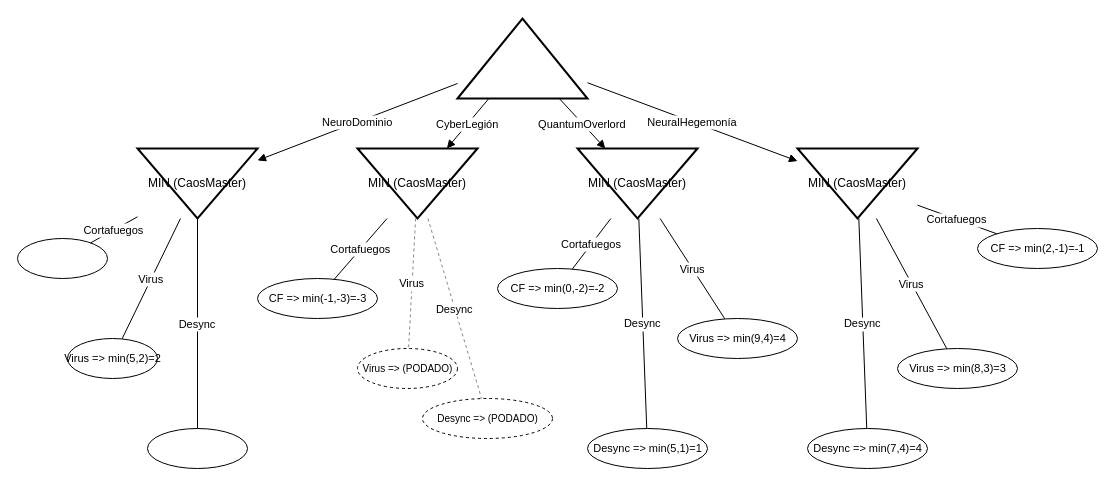
Image size: 1115x486. Some labels were removed from this diagram. Each missing label, with the box of its shape:
CF => min(3,1)=1: (16, 238, 108, 278)
Desync => min(4,0)=0: (146, 428, 248, 468)
MAX (SupremoBrain): (456, 17, 588, 99)
